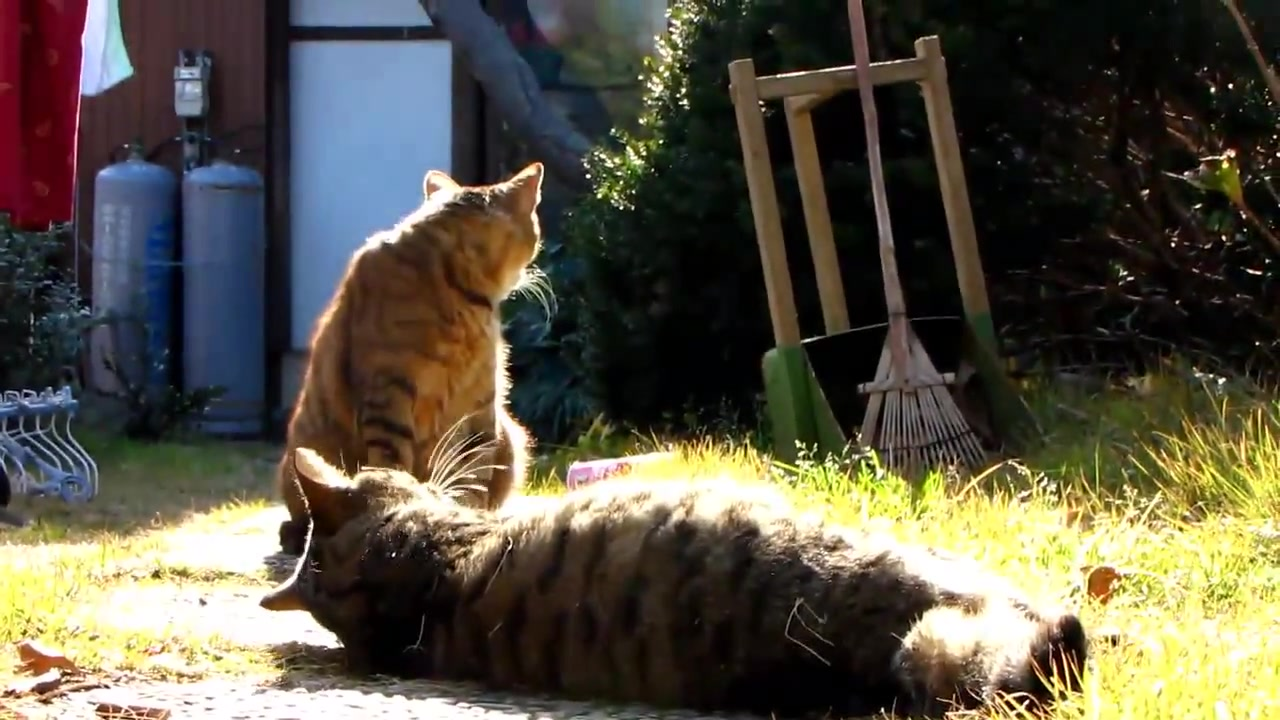cat: (263, 442, 1117, 720), (277, 164, 554, 516)
